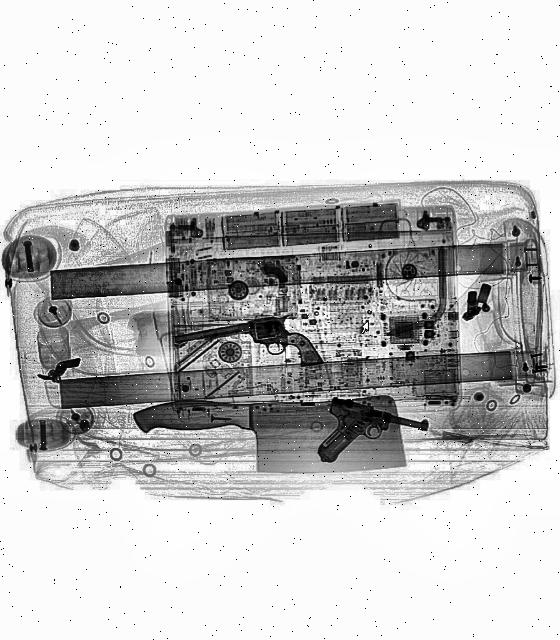Gun: (176, 308, 324, 390), (318, 394, 430, 484)
Knife: (134, 390, 408, 480)
